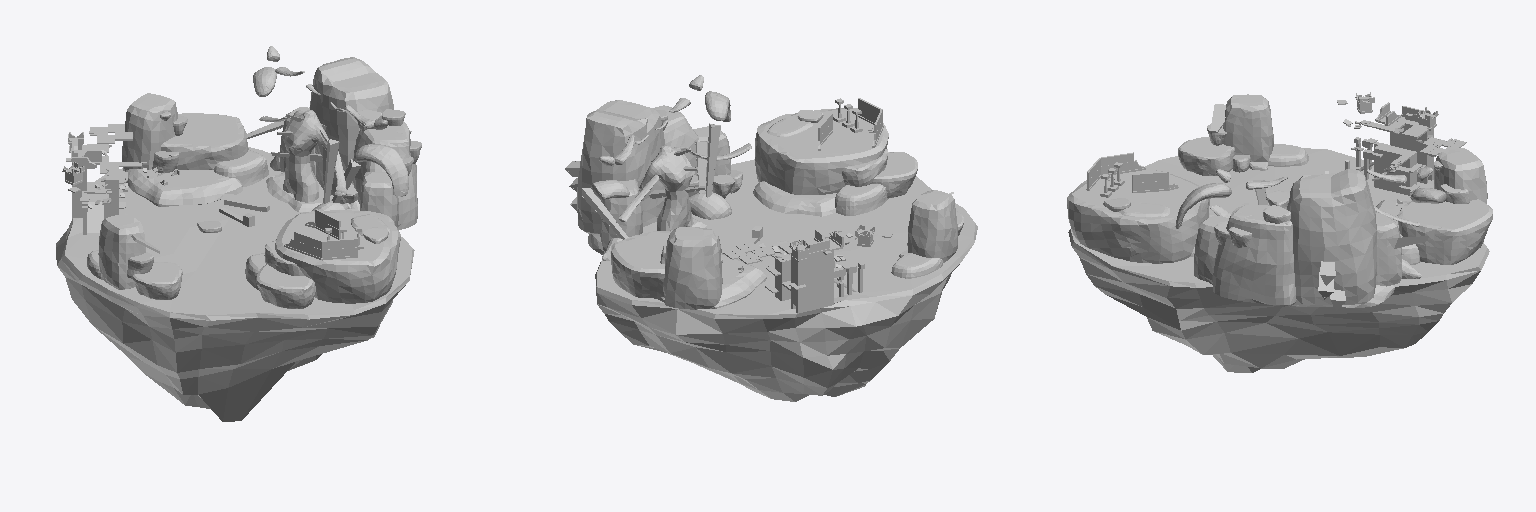
The model's file is milestone2.obj.
The picture shows the model from 3 angles: view 1: azimuth 30°, elevation 25°; view 2: azimuth 150°, elevation 25°; view 3: azimuth 270°, elevation 25°; orthographic projection.
Visible parts, largest first — view 1: IMPORT_andrea_terrenobase001, IMPORT_monte_06, escultura_gigante, IMPORT_BIGmonte_02, IMPORT_monte_008, IMPORT_monte_009, IMPORT_monte_012, IMPORT_monte_013, IMPORT_monte_05, IMPORT_monte_010, IMPORT_monte_029, IMPORT_monte_015 (+5 smaller); view 2: IMPORT_andrea_terrenobase001, IMPORT_monte_06, IMPORT_BIGmonte_02, escultura_gigante, IMPORT_monte_012, IMPORT_monte_008, IMPORT_monte_013, IMPORT_monte_07, ms2_Box057_col, IMPORT_monte_009, IMPORT_monte_035, IMPORT_monte_04 (+10 smaller); view 3: IMPORT_andrea_terrenobase001, IMPORT_BIGmonte_02, IMPORT_monte_06, IMPORT_monte_05, IMPORT_monte_008, IMPORT_monte_013, escultura_gigante, IMPORT_monte_012, IMPORT_monte_029, IMPORT_monte_035, IMPORT_monte_015, ms2_Box058_col (+3 smaller).
Boxes of the visible parts, <box> form: IMPORT_andrea_terrenobase001: <box>56,147,414,421</box>; IMPORT_monte_06: <box>275,210,400,303</box>; escultura_gigante: <box>253,46,408,210</box>; IMPORT_BIGmonte_02: <box>310,57,393,195</box>; IMPORT_monte_008: <box>161,113,248,169</box>; IMPORT_monte_009: <box>125,169,242,206</box>; IMPORT_monte_012: <box>122,93,177,170</box>; IMPORT_monte_013: <box>98,213,145,289</box>; IMPORT_monte_05: <box>353,121,417,229</box>; IMPORT_monte_010: <box>256,264,315,308</box>; IMPORT_monte_029: <box>132,262,182,299</box>; IMPORT_monte_015: <box>360,172,398,226</box>; IMPORT_andrea_terrenobase001: <box>595,159,977,401</box>; IMPORT_monte_06: <box>755,108,888,194</box>; IMPORT_BIGmonte_02: <box>577,100,665,233</box>; escultura_gigante: <box>591,75,751,260</box>; IMPORT_monte_012: <box>663,227,722,309</box>; IMPORT_monte_008: <box>611,231,670,298</box>; IMPORT_monte_013: <box>908,190,957,262</box>; IMPORT_monte_07: <box>753,181,836,216</box>; ms2_Box057_col: <box>791,246,833,297</box>; IMPORT_monte_009: <box>658,254,766,308</box>; IMPORT_monte_035: <box>600,179,643,250</box>; IMPORT_monte_04: <box>835,184,887,215</box>; IMPORT_andrea_terrenobase001: <box>1068,148,1489,372</box>; IMPORT_BIGmonte_02: <box>1287,169,1376,304</box>; IMPORT_monte_06: <box>1067,169,1209,263</box>; IMPORT_monte_05: <box>1213,203,1296,306</box>; IMPORT_monte_008: <box>1397,199,1492,264</box>; IMPORT_monte_013: <box>1223,94,1273,161</box>; escultura_gigante: <box>1175,167,1446,278</box>; IMPORT_monte_012: <box>1434,148,1487,203</box>; IMPORT_monte_029: <box>1178,137,1234,175</box>; IMPORT_monte_035: <box>1376,214,1401,286</box>; IMPORT_monte_015: <box>1194,215,1228,284</box>; ms2_Box058_col: <box>1374,143,1416,195</box>.
Bounding box in the file's own units: 233 × 172 × 245.